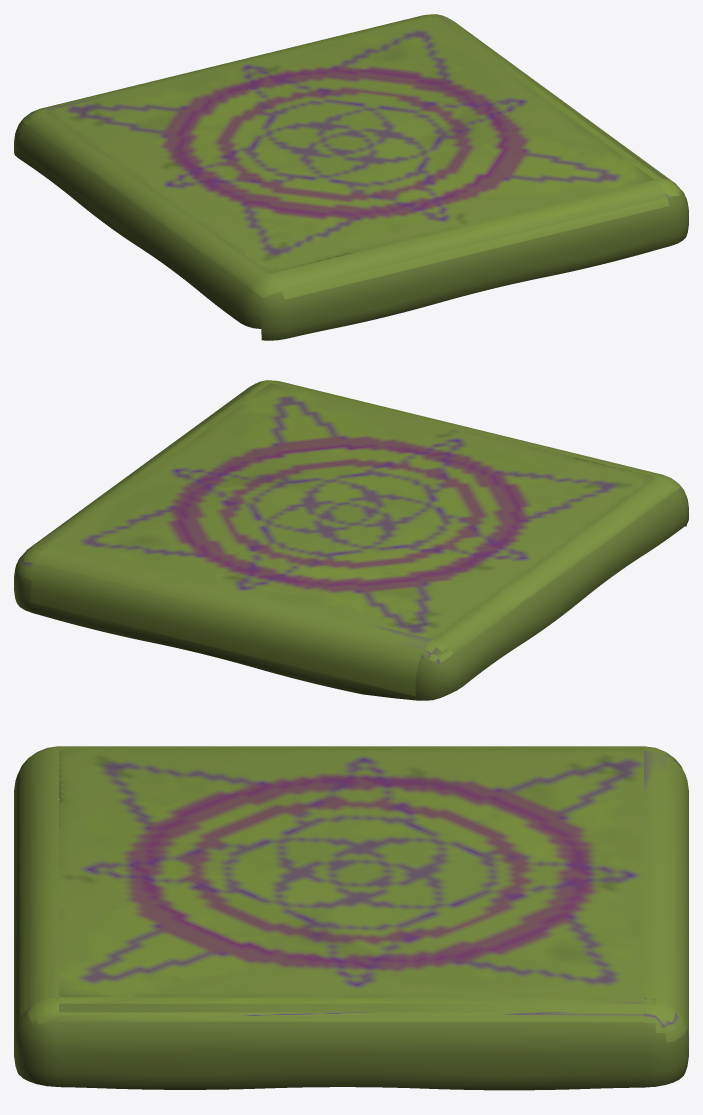
File: tile_portail.fbx
3 views of the same model, one above another, from view 1: azimuth 30°, elevation 25°; view 2: azimuth 150°, elevation 25°; view 3: azimuth 270°, elevation 25° (orthographic). The views are drawn at different scales.
Parts seen in each view (by area): view 1: Cube; view 2: Cube; view 3: Cube.
Boxes of the visible parts, <box> form: Cube: <box>14,14,688,340</box>; Cube: <box>14,380,688,700</box>; Cube: <box>14,746,688,1090</box>.
Size of the model in its own units: 200 by 32.47 by 200.
